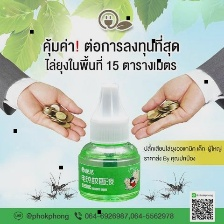insecticide: (73, 81, 142, 204)
